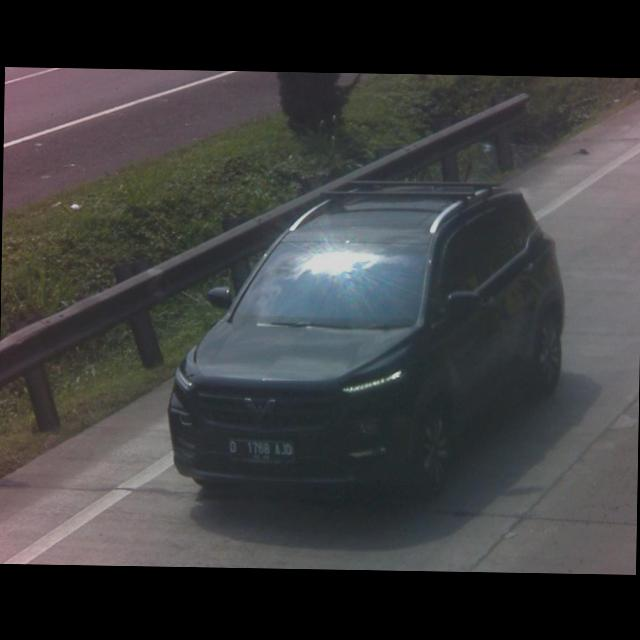plate: (227, 437, 296, 461)
